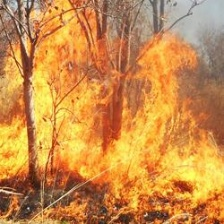fire: (4, 7, 224, 219)
